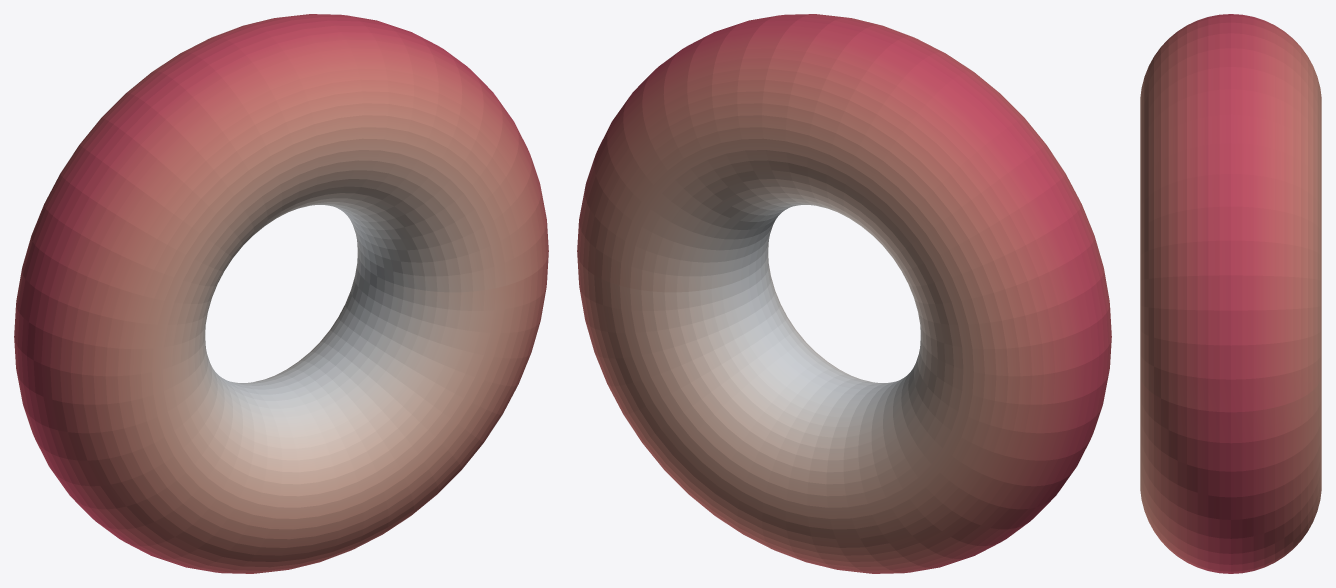
The picture shows the model from 3 angles, left to right: view 1: azimuth 30°, elevation 25°; view 2: azimuth 150°, elevation 25°; view 3: azimuth 270°, elevation 25°; orthographic projection. The views are drawn at different scales.
Visible parts, largest first — view 1: world; view 2: world; view 3: world.
Part boxes in pixels (x1,y1,x2,y2): world: (14,14,548,573); world: (577,14,1111,573); world: (1140,14,1321,573).
Size of the model in its own units: 26.67 by 26.61 by 8.65.
